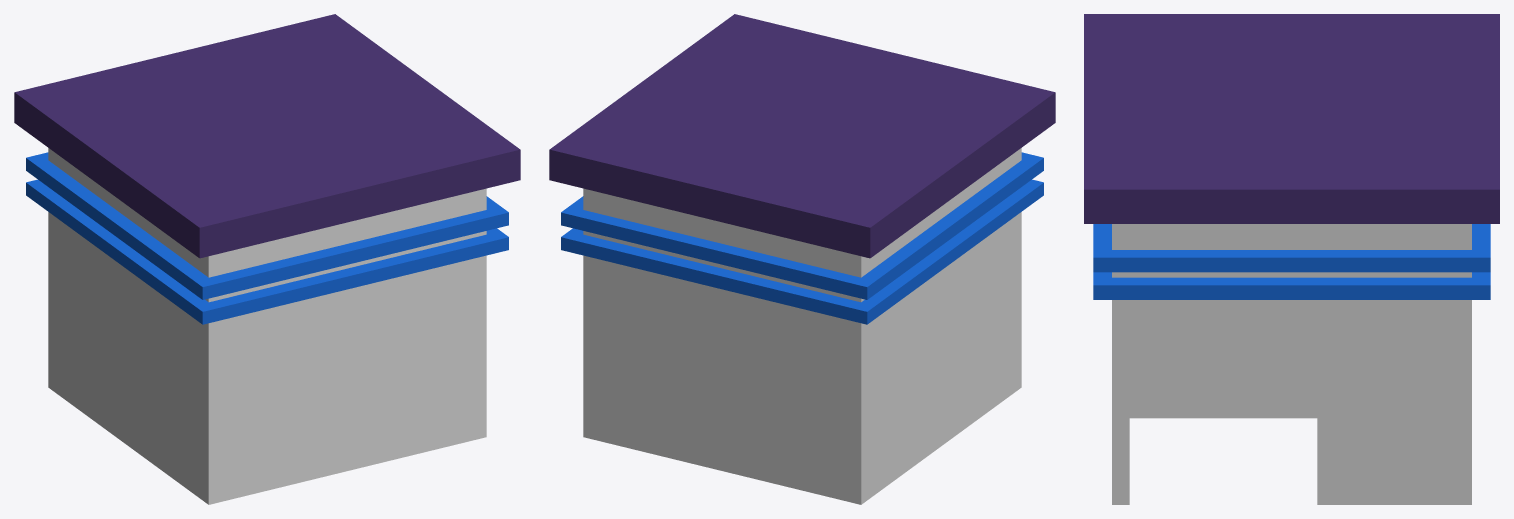
Rendered from House1Part1.fbx.
3 renders of one model, left to right at view 1: azimuth 30°, elevation 25°; view 2: azimuth 150°, elevation 25°; view 3: azimuth 270°, elevation 25°, orthographic. The views are drawn at different scales.
Visible parts, largest first — view 1: Cube; view 2: Cube; view 3: Cube.
Part boxes in pixels (x1=…): Cube: x1=14, y1=14, x2=520, y2=504; Cube: x1=549, y1=14, x2=1055, y2=504; Cube: x1=1084, y1=14, x2=1499, y2=504.
Size of the model in its own units: 231 by 200 by 231.
